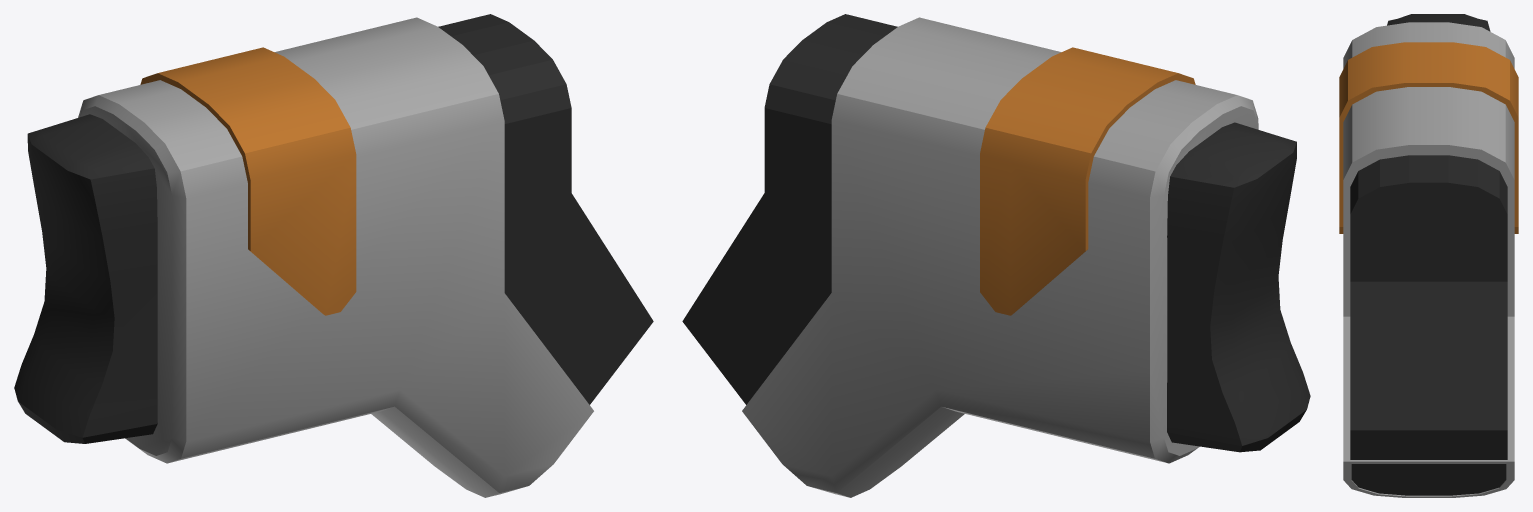
Rendered from quaternius-modular-sci-fi-guns-stock-pistol-3.glb.
3 renders of one model, left to right at view 1: azimuth 30°, elevation 25°; view 2: azimuth 150°, elevation 25°; view 3: azimuth 270°, elevation 25°, orthographic. The views are drawn at different scales.
Visible parts, largest first — view 1: Stock_Pistol_3; view 2: Stock_Pistol_3; view 3: Stock_Pistol_3.
Part boxes in pixels (box(x1,y1,x2,y2)): Stock_Pistol_3: box(14, 14, 653, 497); Stock_Pistol_3: box(682, 14, 1310, 497); Stock_Pistol_3: box(1339, 14, 1518, 497).
Bounding box in the file's own units: 0.3248 × 0.2472 × 0.114.
